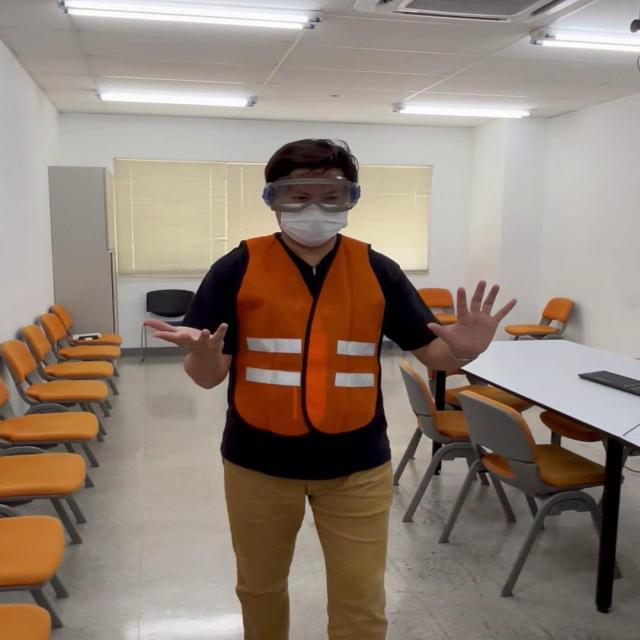bare_hand: (423, 275, 519, 362), (141, 312, 228, 363)
